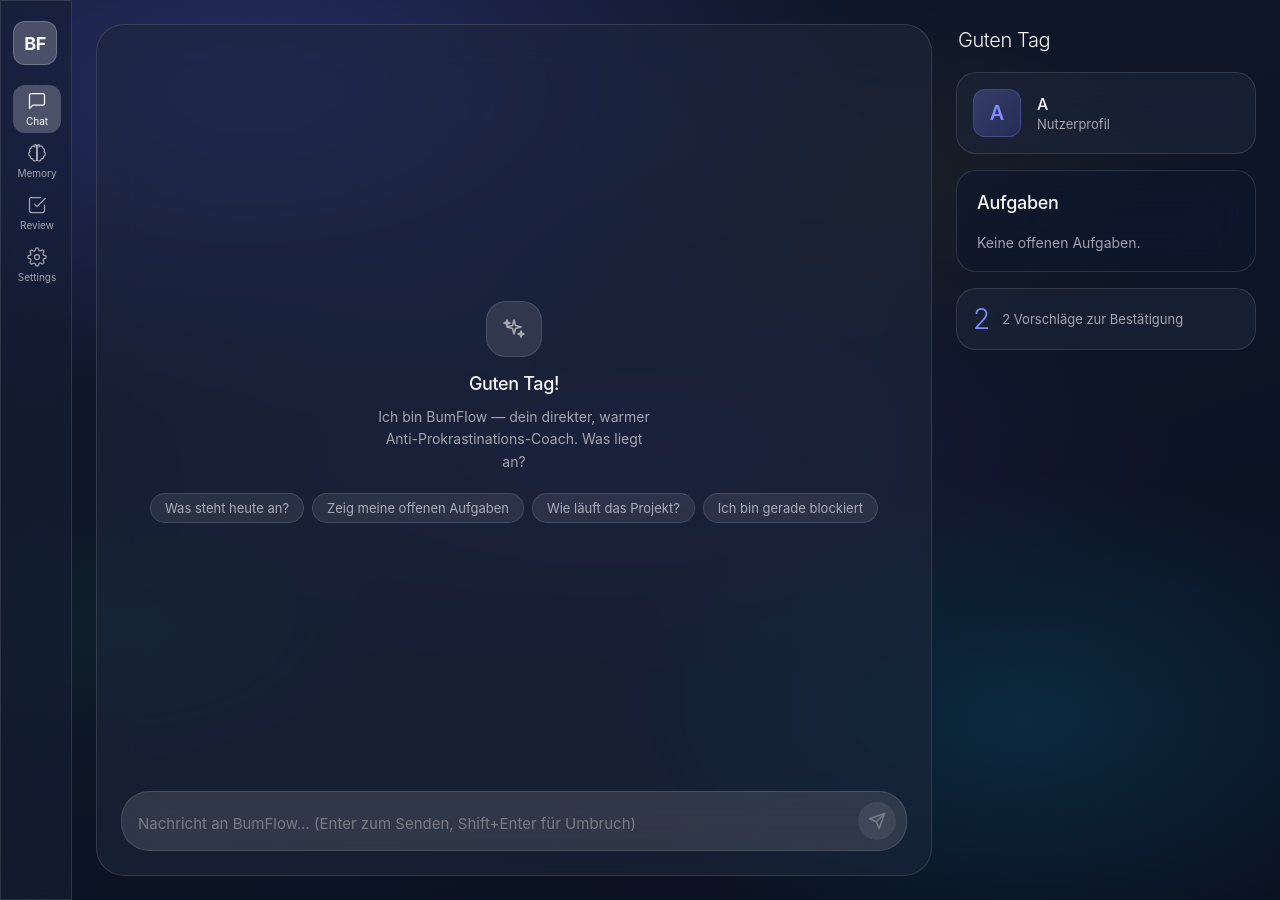
Scenario: proposed-memories teaser navigates to the Review view
The width and height of the screenshot is (1280, 900).
Click the button "2 2 Vorschläge zur Bestätigung" at x=1106, y=319, box 956,288 -> 1256,350
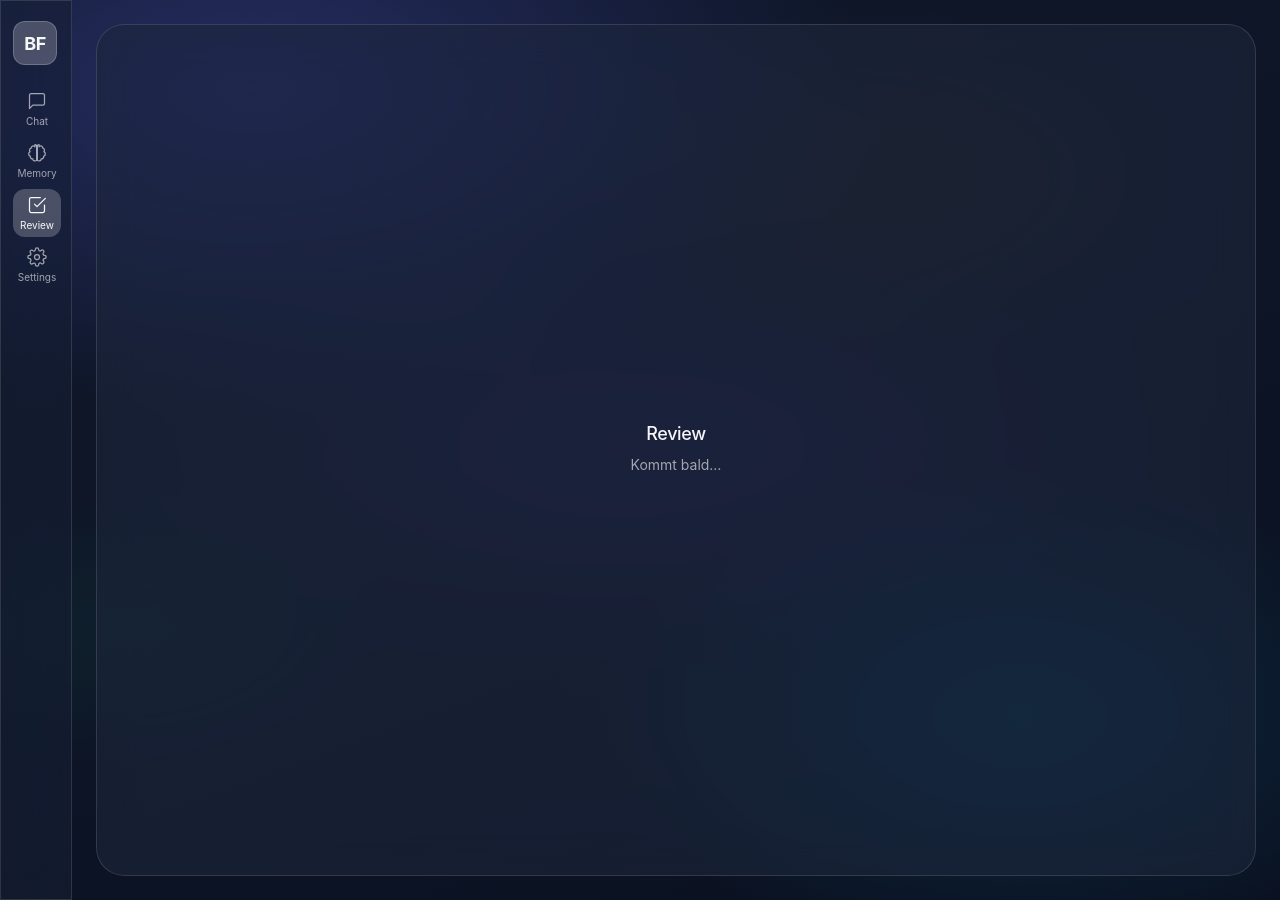
Check: the heading "Review" is shown, box 646,423 -> 706,444
Check: the text box labelled "Nachricht" is gone
